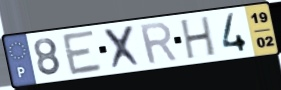4: (220, 11, 249, 55)
8: (33, 37, 64, 77)
E: (60, 28, 105, 77)
H: (180, 14, 218, 61)
R: (137, 20, 180, 67)
X: (102, 23, 146, 72)
